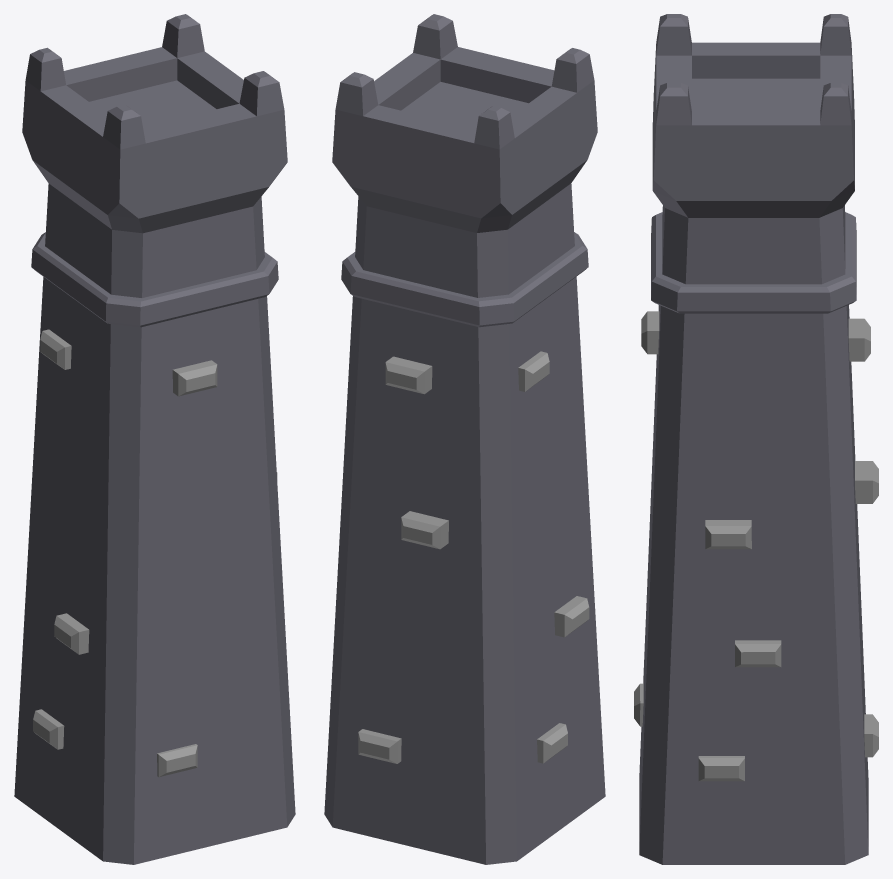
File: StoneWall_MiddlePiece#2.fbx
3 views of the same model, side by side, from view 1: azimuth 30°, elevation 25°; view 2: azimuth 150°, elevation 25°; view 3: azimuth 270°, elevation 25° (orthographic). The views are drawn at different scales.
Visible parts, largest first — view 1: Cube.065; view 2: Cube.065; view 3: Cube.065.
Boxes of the visible parts, x1,y1,x2,y2 form: Cube.065: (14,14,295,864); Cube.065: (324,14,605,864); Cube.065: (634,14,878,864).
Bounding box in the file's own units: 797 × 2749 × 797.
